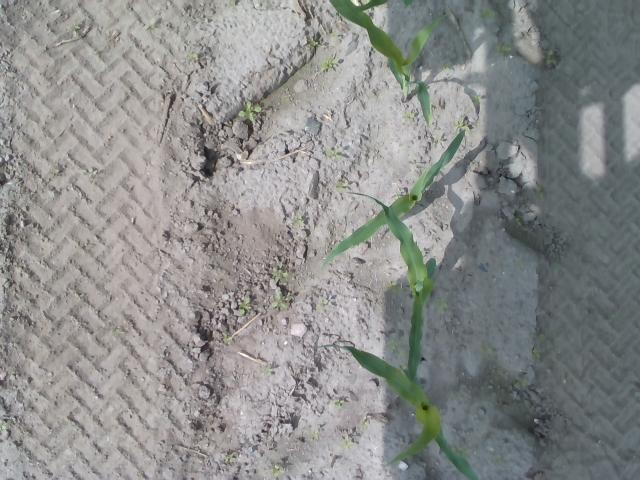Maize: (342, 259, 481, 480), (320, 128, 466, 268), (328, 0, 450, 125), (346, 190, 436, 334)
Weeds: (236, 98, 262, 122), (488, 366, 510, 383), (270, 292, 289, 310), (388, 336, 401, 360), (237, 297, 252, 315), (479, 7, 497, 19), (78, 166, 98, 176), (453, 447, 471, 458), (328, 144, 341, 159), (387, 281, 402, 294), (272, 464, 286, 477), (546, 49, 556, 66), (335, 179, 347, 193), (322, 57, 334, 71), (270, 268, 286, 278), (453, 120, 467, 131), (224, 451, 238, 462), (498, 44, 512, 55), (438, 297, 448, 312), (533, 331, 548, 341), (531, 345, 540, 361), (511, 216, 523, 228), (184, 52, 200, 61), (307, 37, 319, 47), (292, 215, 304, 225), (334, 398, 346, 408), (404, 110, 414, 119), (264, 367, 273, 376), (472, 94, 480, 102), (0, 422, 6, 432)
